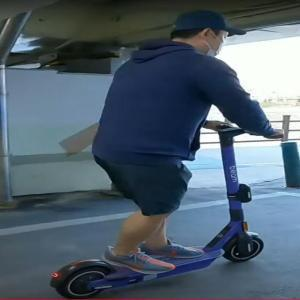with scooter: (50, 11, 284, 300)
